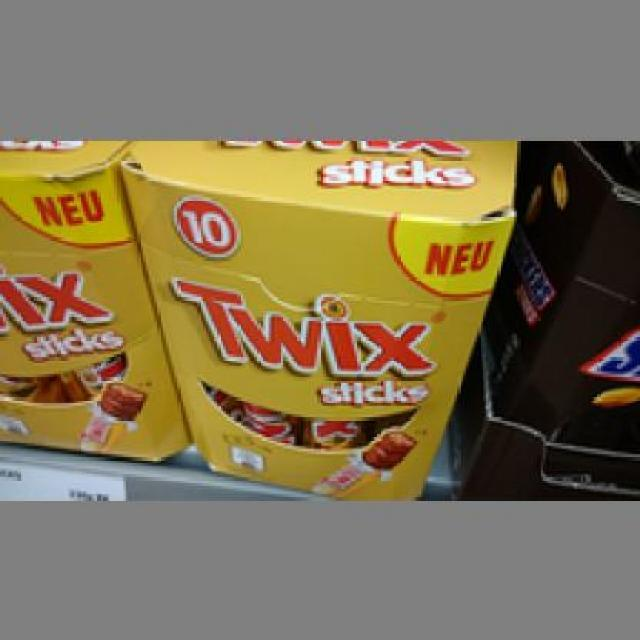Chocolate: (119, 139, 512, 492), (0, 137, 192, 463), (488, 140, 638, 486)
